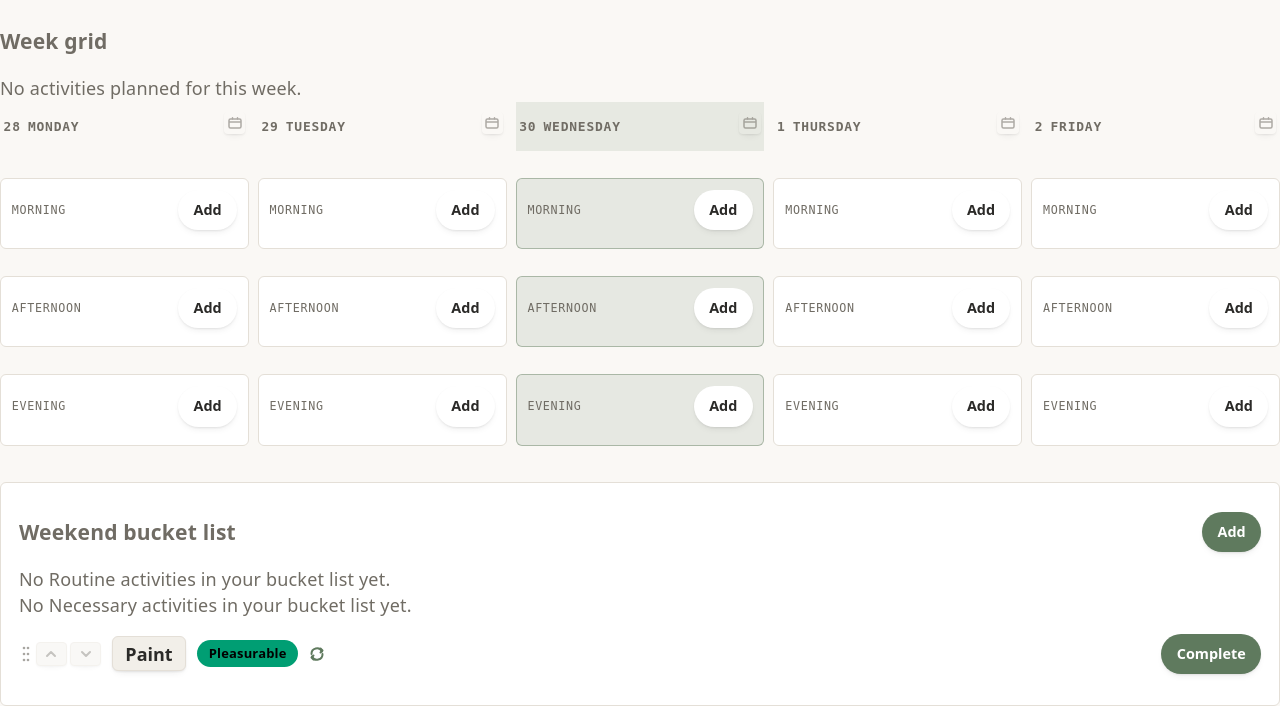
WeeklyPlanner › FRONTEND-004-AC-34: carry-forward control only appears on bucket items › renders Carry forward for a bucket item
(page scrolled)
Click the button "Paint" at (149, 654), box [112,636,186,672]
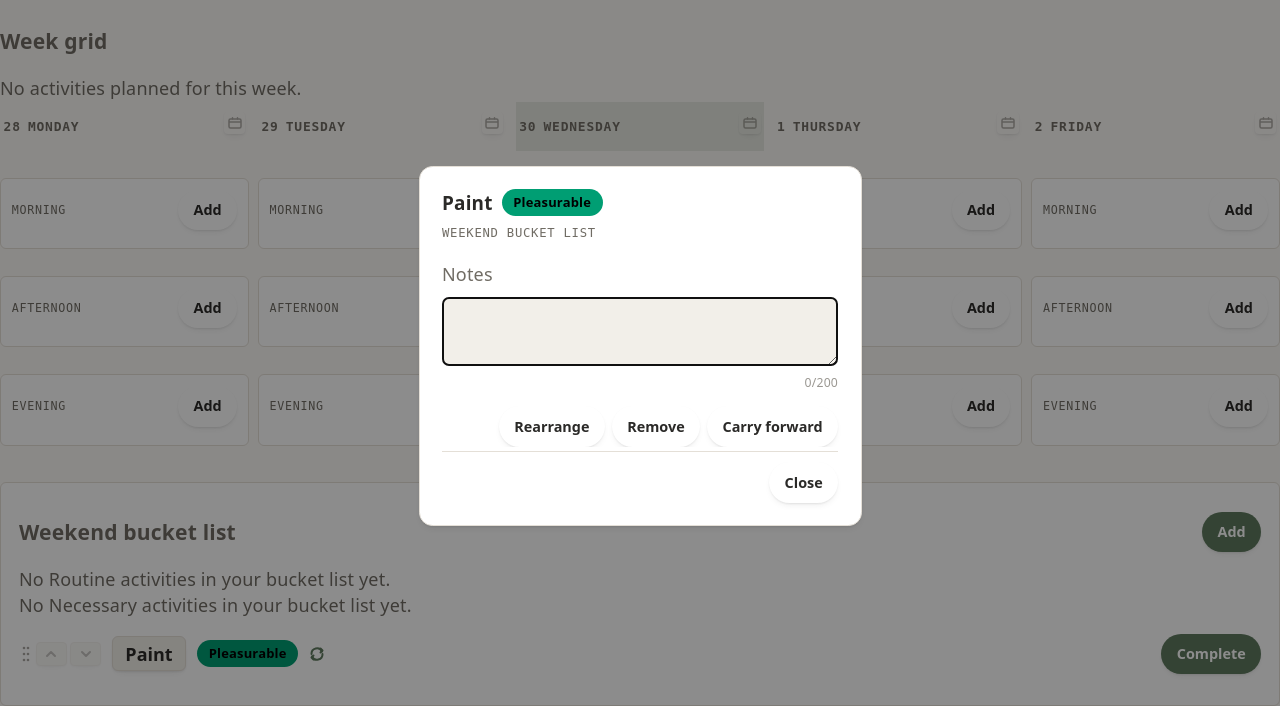
Expected: the button "Carry forward" is shown, [707,406,838,447]
